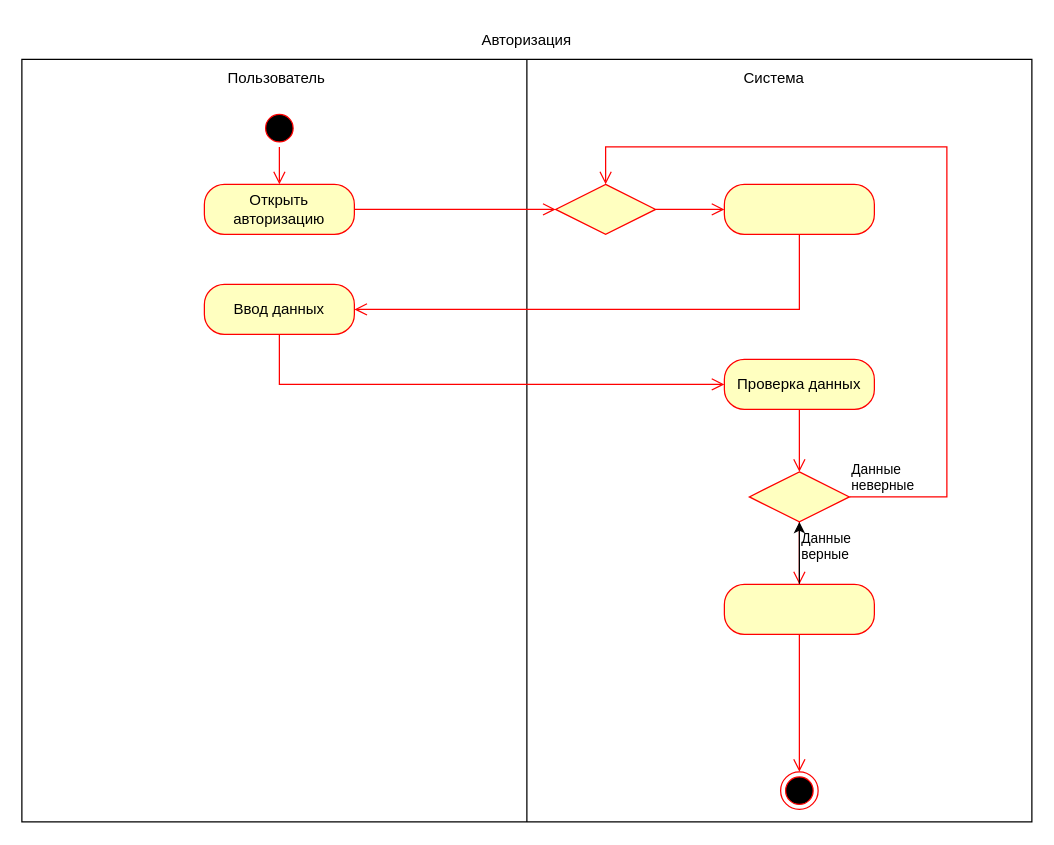
This 1054x845 diagram has some shape labels left out. Each missing label, with the box of its shape:
Запрос данных: (723, 183, 874, 234)
Открыть список акций: (723, 583, 874, 634)
